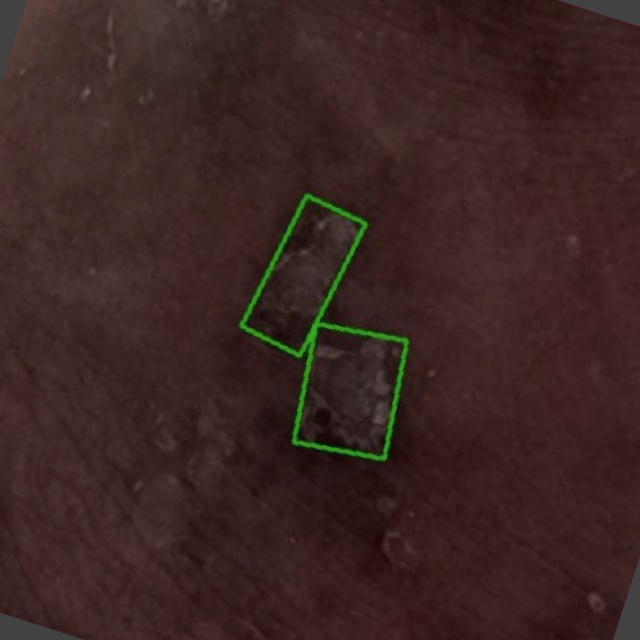Eczema: (242, 196, 365, 356), (294, 324, 407, 459)
